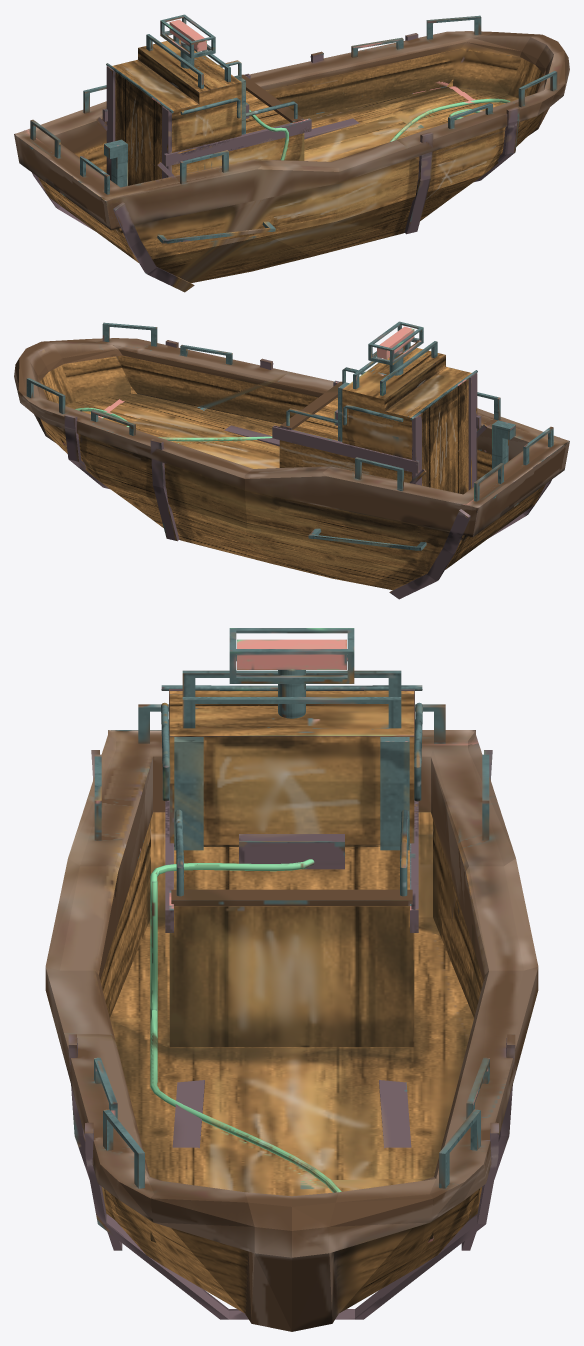
Rendered from boat.fbx.
3 views of the same model, one above another, from view 1: azimuth 30°, elevation 25°; view 2: azimuth 150°, elevation 25°; view 3: azimuth 270°, elevation 25° (orthographic). The views are drawn at different scales.
Visible parts, largest first — view 1: Cube.005; view 2: Cube.005; view 3: Cube.005.
Part boxes in pixels (bbox=[...]): Cube.005: bbox=[14, 14, 569, 292]; Cube.005: bbox=[14, 321, 569, 599]; Cube.005: bbox=[45, 628, 538, 1331].
Size of the model in its own units: 652 by 293 by 275.
